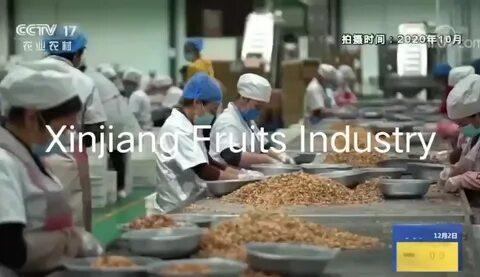hairnet: (0, 57, 98, 140), (442, 72, 480, 122), (182, 71, 226, 110), (228, 70, 272, 107), (324, 63, 340, 91)
mask: (235, 93, 265, 133), (193, 108, 220, 134), (451, 117, 475, 142)
